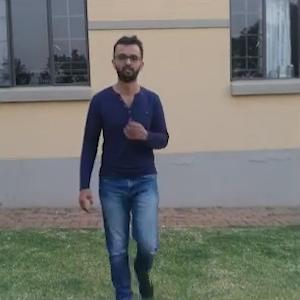follow: (95, 40, 169, 277)
